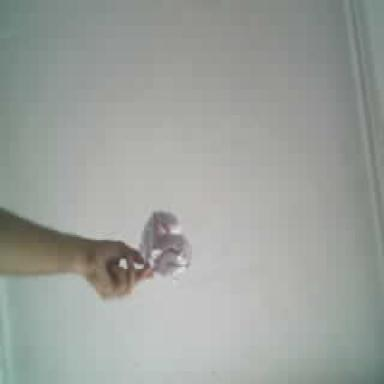paper: (142, 213, 190, 275)
